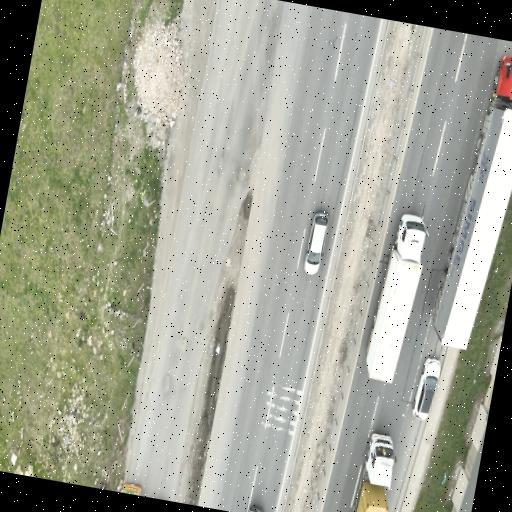car: (412, 357, 440, 419), (304, 212, 328, 273), (248, 507, 262, 511)
truck: (433, 55, 511, 348), (366, 213, 427, 381), (352, 433, 395, 511), (121, 482, 141, 495)
